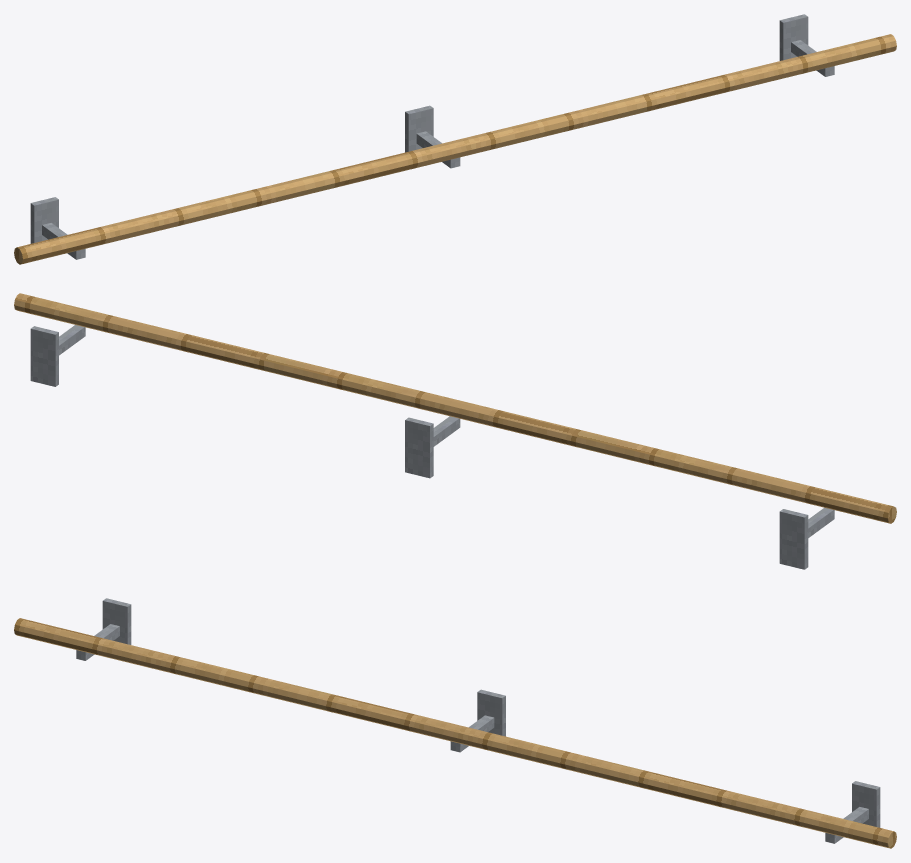
3 views of the same model, one above another, from view 1: azimuth 30°, elevation 25°; view 2: azimuth 150°, elevation 25°; view 3: azimuth 330°, elevation 25° (orthographic).
Visible parts, largest first — view 1: Decor_dance_barre; view 2: Decor_dance_barre; view 3: Decor_dance_barre.
Boxes of the visible parts, left/top/right/bottom form: Decor_dance_barre: left=14, top=14, right=896, bottom=264; Decor_dance_barre: left=14, top=293, right=896, bottom=569; Decor_dance_barre: left=14, top=598, right=896, bottom=848.
Bounding box in the file's own units: 2.8 × 0.16 × 0.2351.
2 materials, 2 textured.
